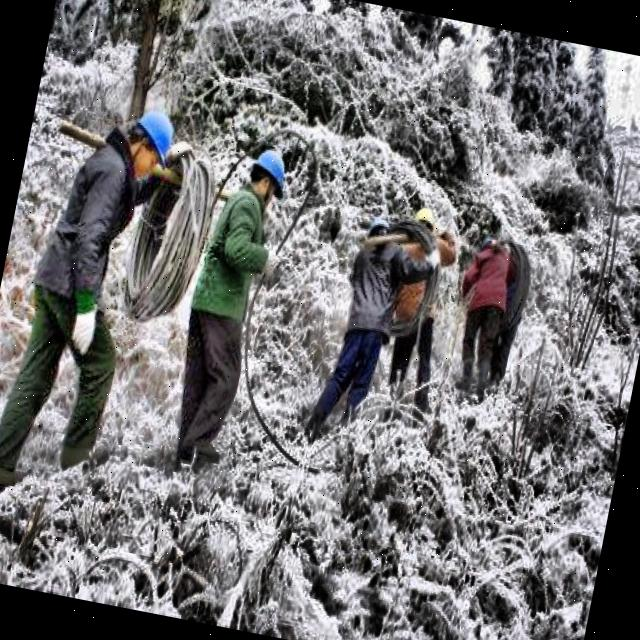helmet: (120, 102, 182, 184), (242, 142, 294, 214), (409, 203, 443, 250), (362, 214, 397, 256)
